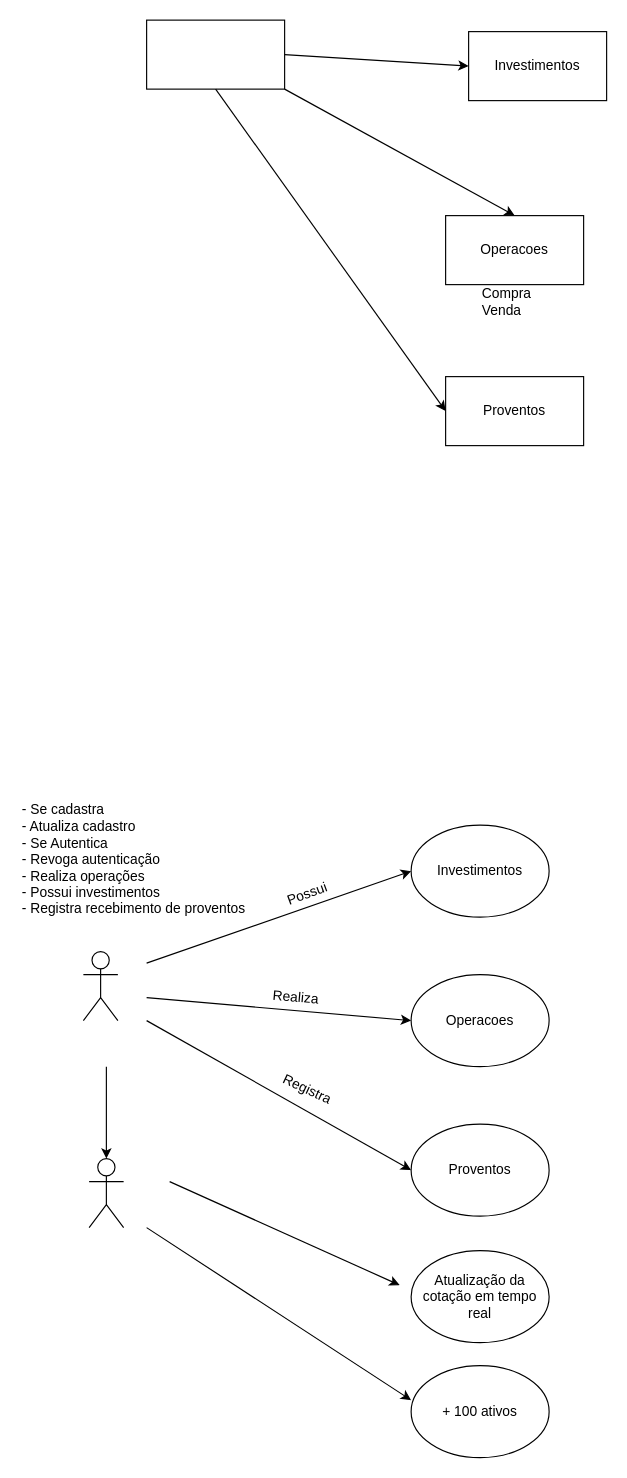
The diagram is 627 pixels wide and 1478 high, and some of its shapes have lost their labels. Here are the shapes that lost their labels. From the top down, the centre of each, then its label:
point 215,54: Usuarios
point 100,985: Usuario gratis
point 106,1192: Usuario pago
